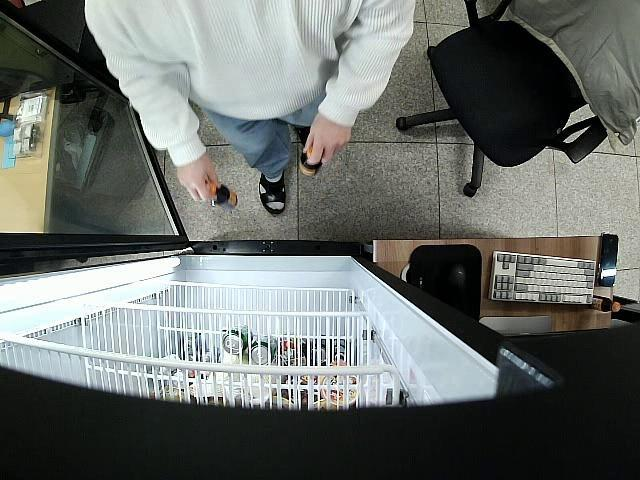17_vita500: (205, 176, 236, 210), (298, 142, 322, 176)
